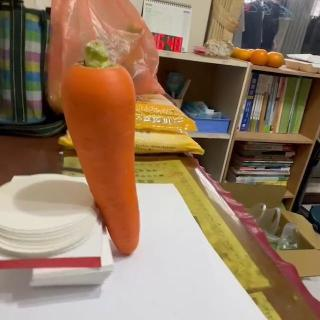carrot: (63, 38, 141, 256)
